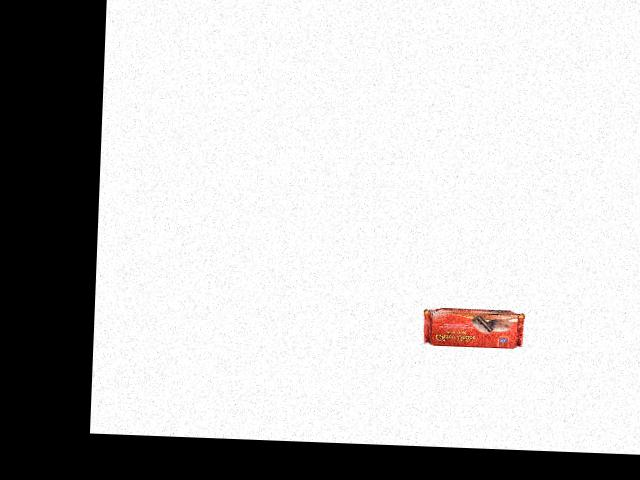chocolate: (421, 298, 527, 349)
